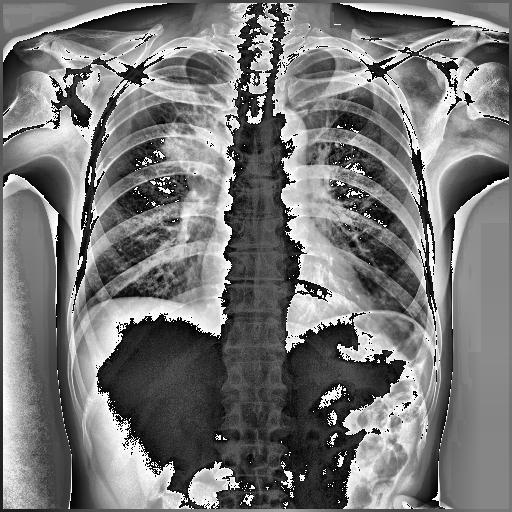0- Aortic enlargement: (256, 107, 307, 164)
4- Consolidation: (154, 100, 232, 178), (162, 102, 224, 192)
6- Infiltration: (162, 110, 228, 178)
7- Lung Opacity: (154, 100, 232, 178)
